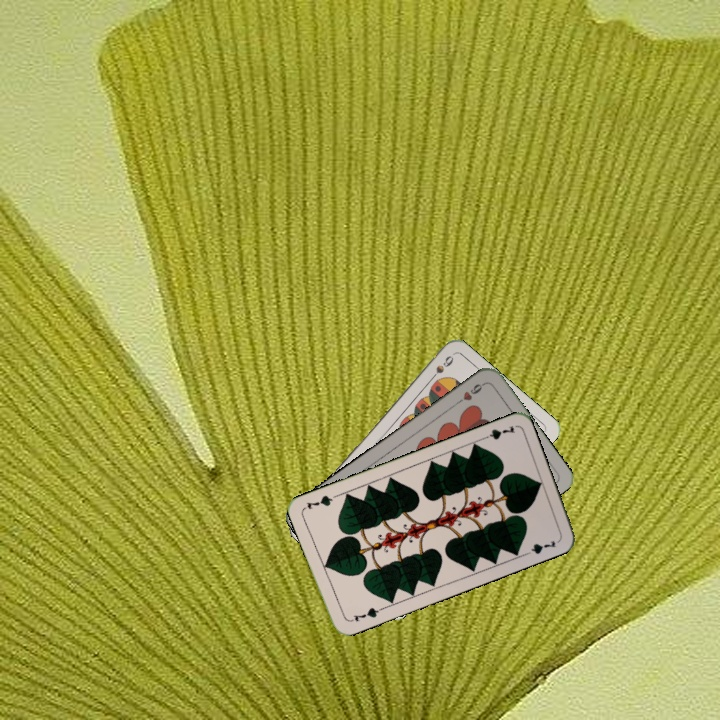G7: (345, 603, 385, 625), (477, 422, 518, 443)
H9: (452, 378, 488, 407)
S9: (425, 351, 456, 385)
